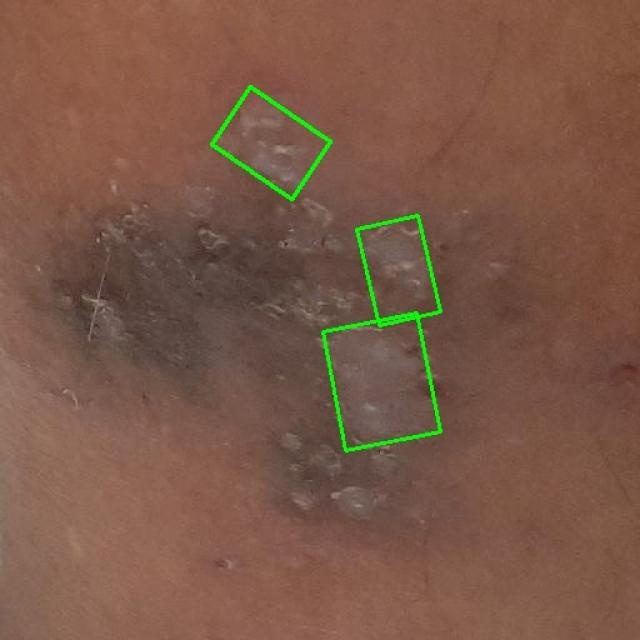Contact Dermatitis: (323, 313, 440, 450), (211, 87, 331, 199), (357, 215, 440, 326)
